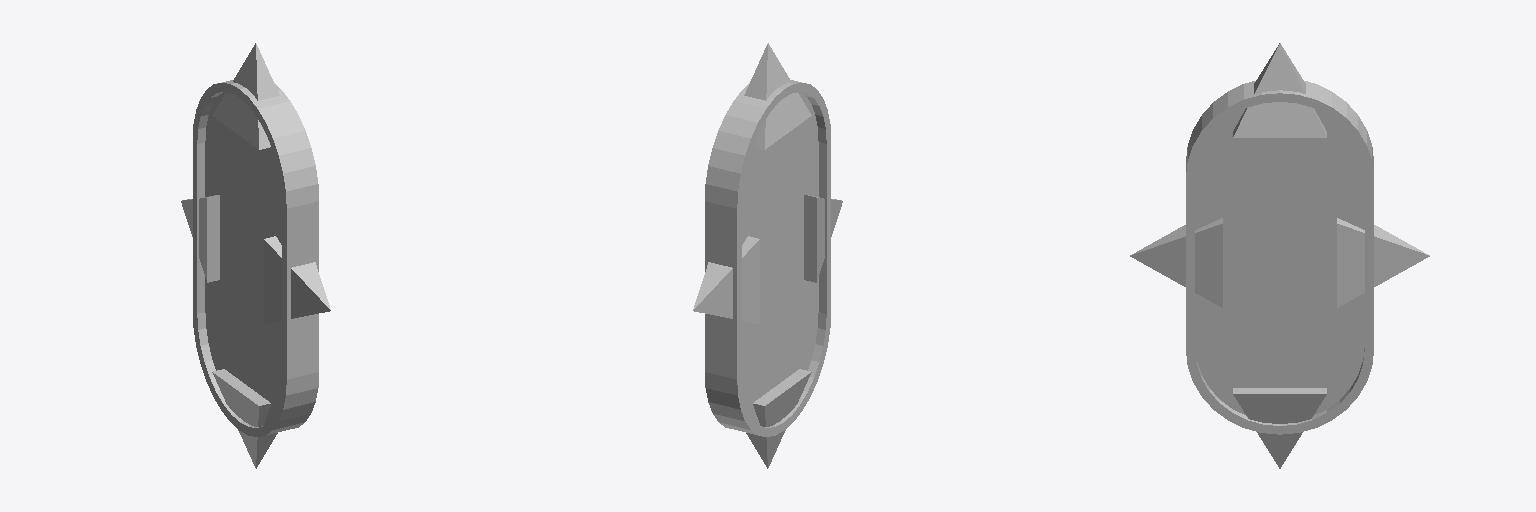
Rendered from portal_exit.obj.
The picture shows the model from 3 angles: view 1: azimuth 30°, elevation 25°; view 2: azimuth 150°, elevation 25°; view 3: azimuth 270°, elevation 25°; orthographic projection.
Visible parts, largest first — view 1: portal_exit_Cylinder.001; view 2: portal_exit_Cylinder.001; view 3: portal_exit_Cylinder.001.
Part boxes in pixels (x1,y1,x2,y2): portal_exit_Cylinder.001: (181,43,330,468); portal_exit_Cylinder.001: (693,43,842,468); portal_exit_Cylinder.001: (1130,43,1429,468).
Bounding box in the file's own units: 0.25 × 2.5 × 1.6.